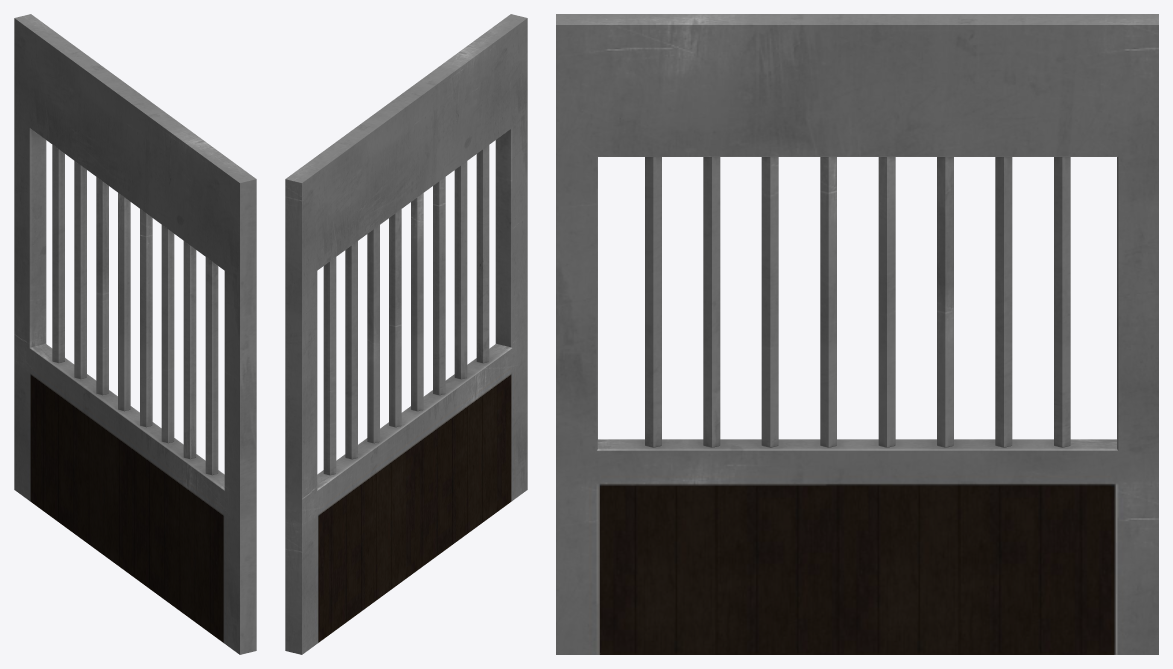
Rendered from StableBox_Wall1_LP.glb.
The picture shows the model from 3 angles, left to right: view 1: azimuth 30°, elevation 25°; view 2: azimuth 150°, elevation 25°; view 3: azimuth 270°, elevation 25°; orthographic projection. The views are drawn at different scales.
Parts seen in each view (by area): view 1: StableBox_Wall1_LP; view 2: StableBox_Wall1_LP; view 3: StableBox_Wall1_LP.
Part boxes in pixels (x1=…): StableBox_Wall1_LP: x1=14, y1=14, x2=256, y2=654; StableBox_Wall1_LP: x1=285, y1=14, x2=527, y2=654; StableBox_Wall1_LP: x1=556, y1=14, x2=1158, y2=654.
Size of the model in its own units: 0.1542 by 4.17 by 3.61.
Materials: 2 (2 with a texture image).
